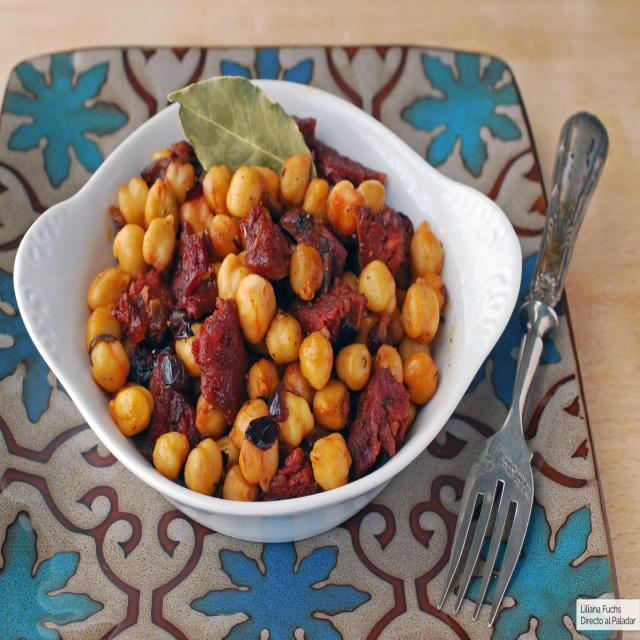garbanzos: (81, 135, 450, 502)
